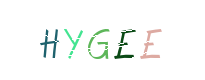E: (81, 0, 161, 80), (83, 0, 163, 80)
G: (62, 0, 142, 80)
H: (19, 0, 99, 80)
Y: (48, 0, 128, 80)
